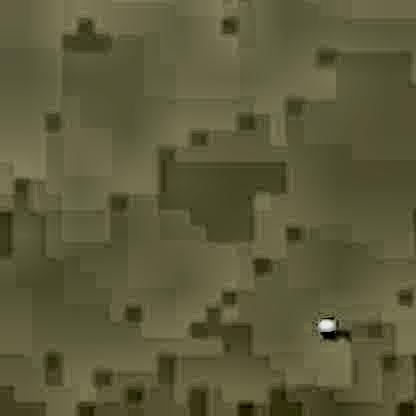golfball: (315, 316, 332, 333)
